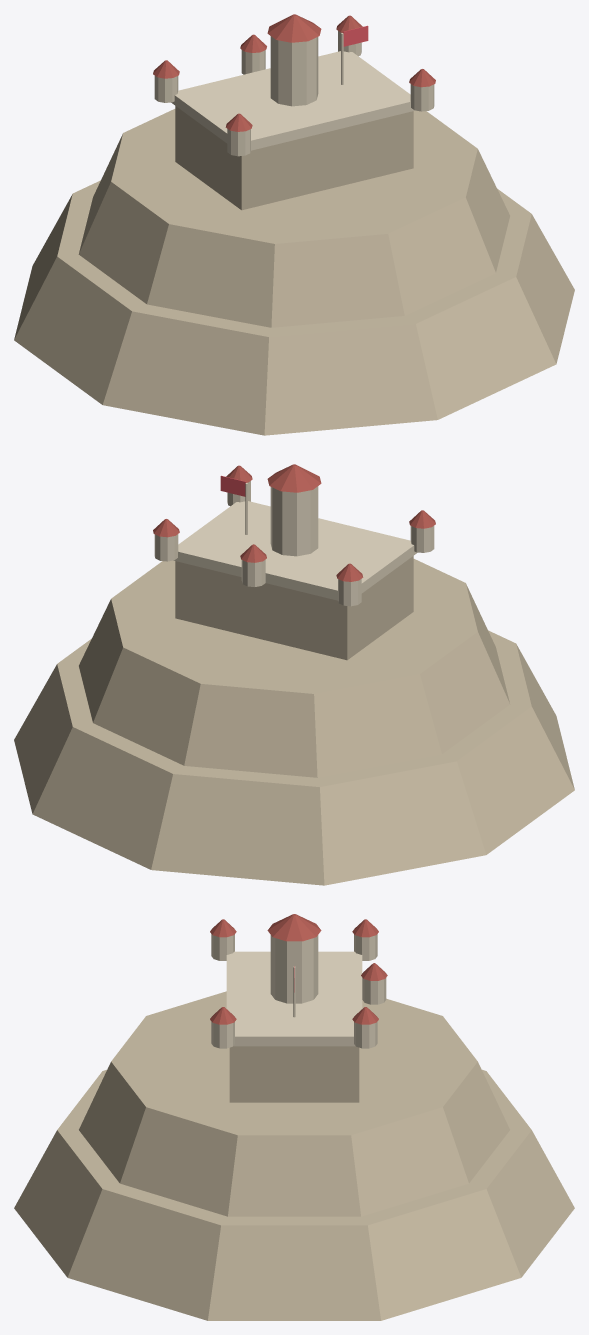
Rendered from elmorro.glb.
The picture shows the model from 3 angles, top to bottom: view 1: azimuth 30°, elevation 25°; view 2: azimuth 150°, elevation 25°; view 3: azimuth 270°, elevation 25°; orthographic projection. The views are drawn at different scales.
Visible parts, largest first — view 1: sj_base, sj_mid, sj_keep, sj_para, sj_light, sj_lroof, sj_g3, sj_g2, sj_g0; view 2: sj_base, sj_mid, sj_keep, sj_para, sj_light, sj_lroof, sj_g4, sj_g1, sj_g0, sj_g2; view 3: sj_base, sj_mid, sj_para, sj_keep, sj_light, sj_lroof, sj_g4, sj_g1, sj_g3, sj_g0, sj_g2.
Boxes of the visible parts, bbox=[...] form: sj_base: bbox=[14, 180, 574, 435]; sj_mid: bbox=[78, 109, 509, 327]; sj_keep: bbox=[175, 106, 413, 210]; sj_para: bbox=[171, 51, 415, 150]; sj_light: bbox=[270, 36, 318, 106]; sj_lroof: bbox=[267, 14, 321, 42]; sj_g3: bbox=[410, 84, 434, 111]; sj_g2: bbox=[227, 129, 250, 156]; sj_g0: bbox=[154, 76, 178, 102]; sj_base: bbox=[14, 630, 574, 885]; sj_mid: bbox=[79, 559, 510, 777]; sj_keep: bbox=[175, 556, 413, 660]; sj_para: bbox=[173, 501, 417, 600]; sj_light: bbox=[270, 486, 318, 556]; sj_lroof: bbox=[267, 464, 321, 492]; sj_g4: bbox=[241, 559, 265, 586]; sj_g1: bbox=[154, 534, 178, 561]; sj_g0: bbox=[338, 579, 361, 606]; sj_g2: bbox=[410, 526, 434, 552]; sj_base: bbox=[14, 1069, 574, 1320]; sj_mid: bbox=[79, 991, 509, 1216]; sj_para: bbox=[226, 951, 362, 1046]; sj_keep: bbox=[229, 1046, 359, 1102]; sj_light: bbox=[270, 935, 318, 1003]; sj_lroof: bbox=[267, 914, 321, 941]; sj_g4: bbox=[362, 978, 386, 1004]; sj_g1: bbox=[354, 1021, 377, 1048]; sj_g3: bbox=[211, 1021, 234, 1048]; sj_g0: bbox=[354, 934, 377, 960]; sj_g2: bbox=[211, 934, 234, 960].
Bounding box in the file's own units: 49.45 × 30 × 52.
